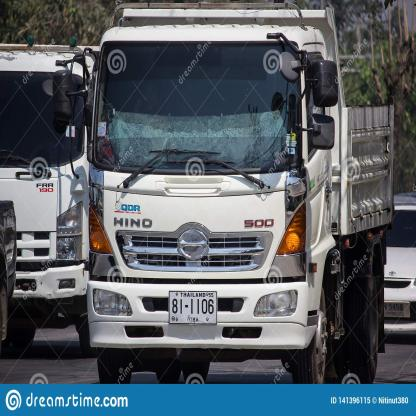dump_truck: (61, 3, 401, 380)
